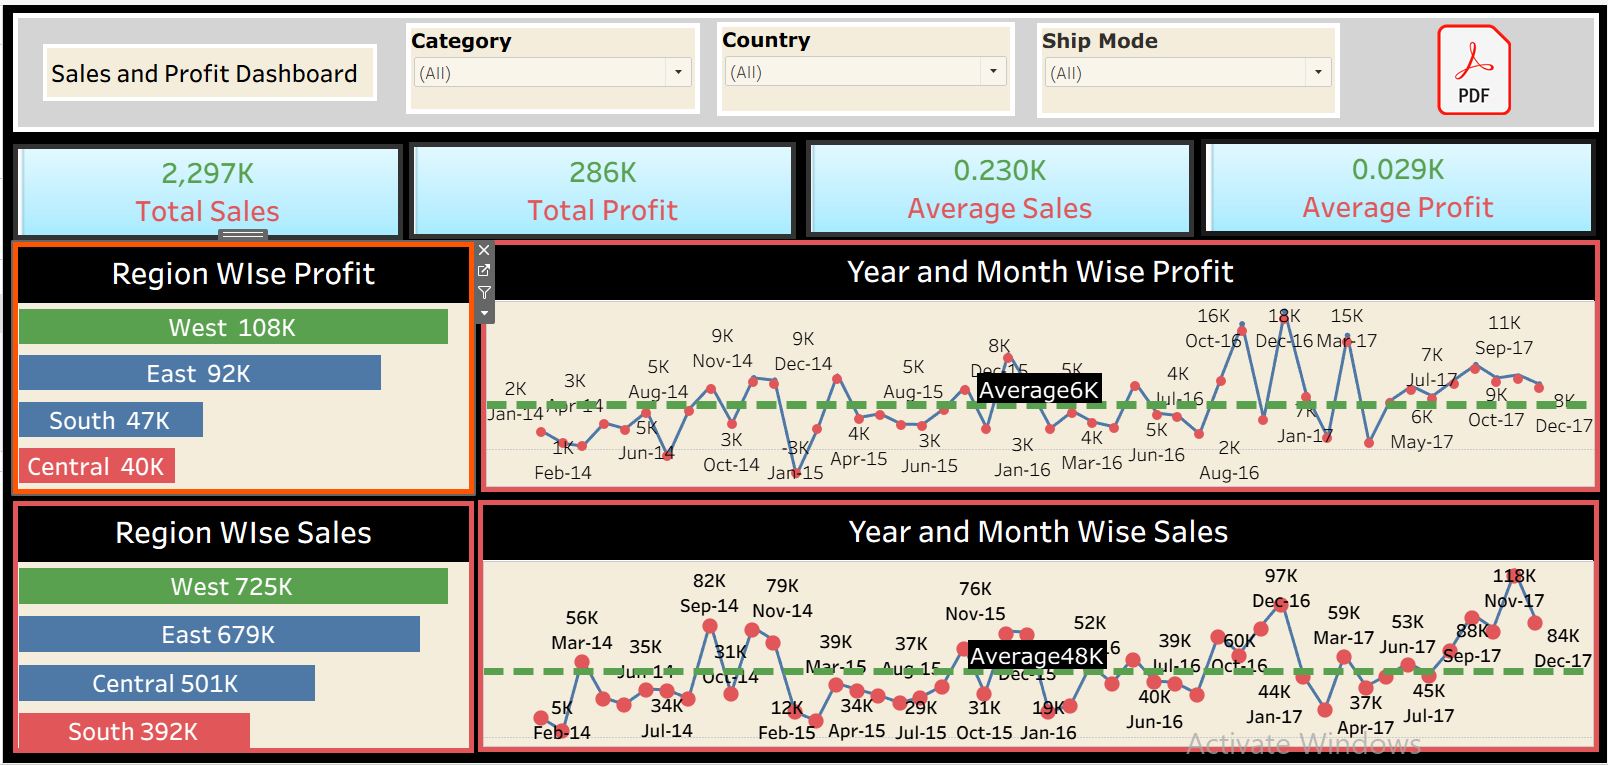

This screenshot's page, from the dashboard's own definition file:
{"tool":"tableau","page":{"name":"Dashboard 1","canvas":[1000,1000],"units":"permille","ordinal":0},"visuals":[{"type":"filter","title":"Year and Month Wise Profit","param":"[federated.1bh4wxo1p4vvq91anqq4x16f4u9c].[none:Country:nk]","box":[445.1,22.4,185.8,124]},{"type":"filter","title":"Year and Month Wise Profit","param":"[federated.1bh4wxo1p4vvq91anqq4x16f4u9c].[none:Category:nk]","box":[251.2,23.8,183.3,120]},{"type":"filter","title":"Year and Month Wise Profit","param":"[federated.1bh4wxo1p4vvq91anqq4x16f4u9c].[none:Ship Mode:nk]","box":[644.6,23.8,188.9,125.3]},{"type":"dashboard-object","box":[853.5,25.1,127.8,120]},{"type":"text","box":[24.9,51.5,208.2,75.2]},{"type":"worksheet","title":"Average Profit","mark":"Shape","box":[746.9,176.8,246.3,128]},{"type":"worksheet","title":"Average Sales","mark":"Shape","box":[500.6,178.1,241.9,128]},{"type":"worksheet","title":"Total Profit","mark":"Shape","box":[253.1,180.7,241.3,128]},{"type":"worksheet","title":"Total Sales ","mark":"Shape","box":[6.2,183.4,243.1,126.7]},{"type":"worksheet","title":"Year and Month Wise Profit","mark":"Automatic","rows":["Profit","Profit"],"cols":["Order Date"],"box":[297.9,310,697.7,332.4]},{"type":"worksheet","title":"Region WIse Profit","mark":"Automatic","rows":["Region"],"cols":["Profit"],"box":[6.3,312.7,287.2,332.4]},{"type":"worksheet","title":"Year and Month Wise Sales","mark":"Automatic","rows":["Sales","Sales"],"cols":["Order Date"],"box":[296,653,699,332.4]},{"type":"worksheet","title":"Region WIse Sales","mark":"Automatic","rows":["Region"],"cols":["Sales"],"box":[6.3,654.4,287.2,332.4]}]}

Visuals, with their boxes on the dashboard's canvas, which has no fixed pixel size, in thousandths of its width and height (x1, y1, x2, y2). These are canvas units, not pixel positions in the 1608x765 screenshot, which may show the page scaled, cropped or inside an application window:
"Year and Month Wise Profit" filter: 445/22/631/146
"Year and Month Wise Profit" filter: 251/24/434/144
"Year and Month Wise Profit" filter: 645/24/834/149
dashboard-object: 854/25/981/145
text: 25/52/233/127
"Average Profit" worksheet (Shape marks): 747/177/993/305
"Average Sales" worksheet (Shape marks): 501/178/742/306
"Total Profit" worksheet (Shape marks): 253/181/494/309
"Total Sales " worksheet (Shape marks): 6/183/249/310
"Year and Month Wise Profit" worksheet: 298/310/996/642
"Region WIse Profit" worksheet: 6/313/294/645
"Year and Month Wise Sales" worksheet: 296/653/995/985
"Region WIse Sales" worksheet: 6/654/294/987
